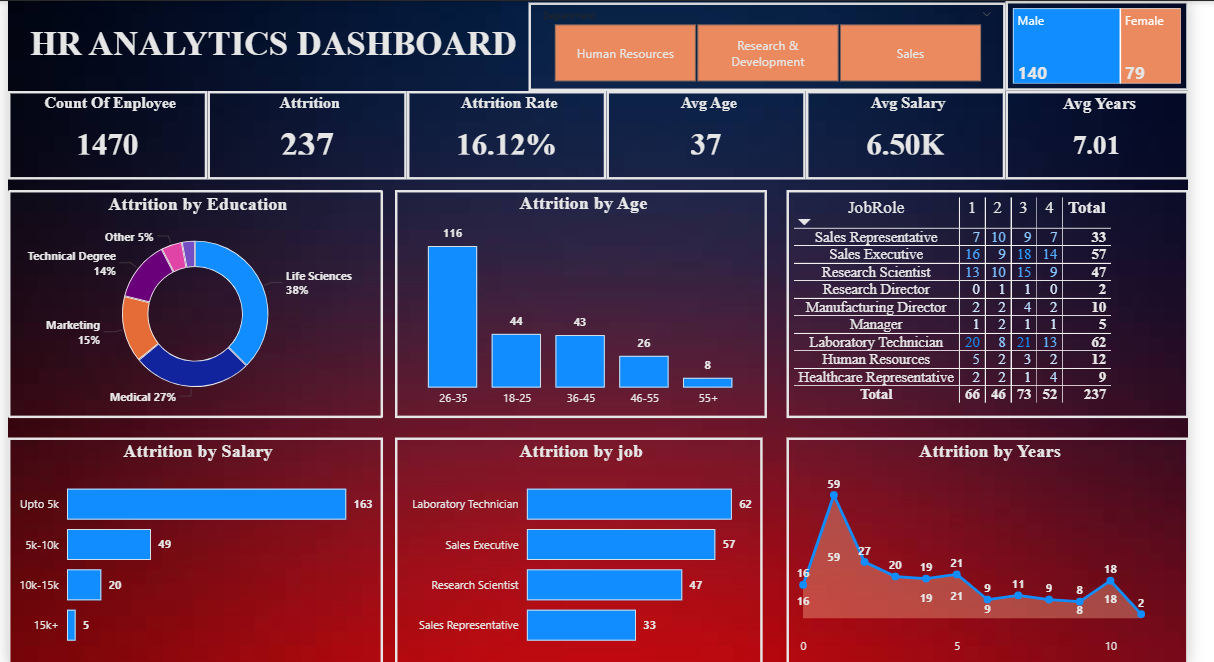

This screenshot's page, from the dashboard's own definition file:
{"tool":"powerbi","page":{"name":"Page 1","canvas":[1280,720],"ordinal":0},"visuals":[{"type":"cardVisual","title":"Count Of Enployee","fields":{"Data":["CountNonNull(HR_Analytics (2).EmpID)"]},"box":[0,97.6,216.3,96],"z":0},{"type":"cardVisual","title":"Attrition","fields":{"Data":["Sum(HR_Analytics (2).AttritionCount)"]},"box":[216.3,97.6,216.3,96],"z":1000},{"type":"cardVisual","title":"Attrition Rate","fields":{"Data":["HR_Analytics (2).Attrition_rate"]},"box":[432.7,97.6,216.3,96],"z":2000},{"type":"cardVisual","title":"Avg Age","fields":{"Data":["Avg(HR_Analytics (2).Age)"]},"box":[649,97.6,216.3,96],"z":3000},{"type":"cardVisual","title":"Avg Salary","fields":{"Data":["Avg(HR_Analytics (2).MonthlyIncome)"]},"box":[865.3,97.6,216.3,96],"z":4000},{"type":"cardVisual","title":"Avg Years","fields":{"Data":["Avg(HR_Analytics (2).YearsAtCompany)"]},"box":[1081.7,97.6,198.4,96],"z":5000},{"type":"donutChart","title":"Attrition by Education","fields":{"Category":["HR_Analytics (2).EducationField"],"Y":["Sum(HR_Analytics (2).AttritionCount)"]},"box":[0,204.9,406.6,247.2],"z":6000},{"type":"columnChart","title":"Attrition by Age","fields":{"Y":["Sum(HR_Analytics (2).AttritionCount)"],"Category":["HR_Analytics (2).AgeGroup"]},"box":[419.6,204.9,403.4,247.2],"z":7000},{"type":"pivotTable","fields":{"Rows":["HR_Analytics (2).JobRole"],"Columns":["HR_Analytics (2).JobSatisfaction"],"Values":["Sum(HR_Analytics (2).AttritionCount)"]},"box":[844.2,204.9,435.9,247.2],"z":8000},{"type":"barChart","title":"Attrition by Salary","fields":{"Category":["HR_Analytics (2).SalarySlab"],"Y":["Sum(HR_Analytics (2).AttritionCount)"]},"box":[0,473.3,406.6,247.2],"z":9000},{"type":"barChart","title":"Attrition by job","fields":{"Y":["Sum(HR_Analytics (2).AttritionCount)"],"Category":["HR_Analytics (2).JobRole"]},"box":[419.6,473.3,398.5,247.2],"z":10000},{"type":"stackedAreaChart","title":"Attrition by Years","fields":{"Category":["HR_Analytics (2).YearsAtCompany"],"Y":["Sum(HR_Analytics (2).AttritionCount)"]},"box":[844.2,473.3,435.9,247.2],"z":11000},{"type":"treemap","title":"Attrition by Age","fields":{"Group":["HR_Analytics (2).Gender"],"Values":["Sum(HR_Analytics (2).AttritionCount)"]},"box":[1081.7,0,198.4,97.6],"z":12000},{"type":"slicer","fields":{"Values":["HR_Analytics (2).Department"]},"box":[564.4,1.6,517.2,96],"z":13000},{"type":"textbox","box":[0,19.5,575.8,60.2],"z":14000}]}

Visuals, with their boxes in screenshot pixels (x1, y1, x2, y2):
"Count Of Enployee" cardVisual: <box>25,91,221,178</box>
"Attrition" cardVisual: <box>221,91,417,178</box>
"Attrition Rate" cardVisual: <box>417,91,613,178</box>
"Avg Age" cardVisual: <box>613,91,808,178</box>
"Avg Salary" cardVisual: <box>808,91,1004,178</box>
"Avg Years" cardVisual: <box>1004,91,1184,178</box>
"Attrition by Education" donutChart: <box>25,189,393,412</box>
"Attrition by Age" columnChart: <box>405,189,770,412</box>
pivotTable - HR_Analytics (2).JobRole x HR_Analytics (2).JobSatisfaction: <box>789,189,1184,412</box>
"Attrition by Salary" barChart: <box>25,432,393,655</box>
"Attrition by job" barChart: <box>405,432,766,655</box>
"Attrition by Years" stackedAreaChart: <box>789,432,1184,655</box>
"Attrition by Age" treemap: <box>1004,3,1184,91</box>
slicer - HR_Analytics (2).Department: <box>536,5,1004,91</box>
textbox: <box>25,21,546,75</box>
